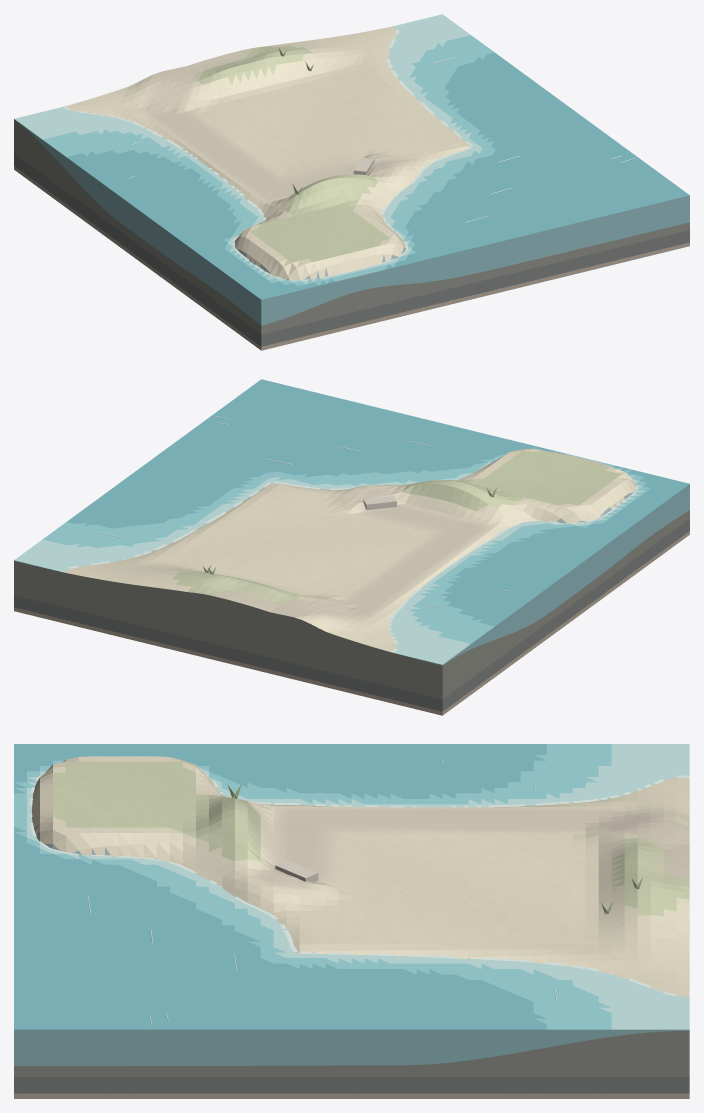
The picture shows the model from 3 angles, top to bottom: view 1: azimuth 30°, elevation 25°; view 2: azimuth 150°, elevation 25°; view 3: azimuth 270°, elevation 25°; orthographic projection. The views are drawn at different scales.
Parts seen in each view (by area): view 1: proc_water, proc_ground, proc_skirt, proc_water_side, proc_foam; view 2: proc_water, proc_ground, proc_skirt, proc_water_side, proc_foam; view 3: proc_water, proc_ground, proc_skirt, proc_water_side, proc_foam, proc_steps.
Boxes of the visible parts, <box> form: proc_water: <box>14,14,689,299</box>; proc_ground: <box>66,26,471,280</box>; proc_skirt: <box>14,120,689,350</box>; proc_water_side: <box>14,119,689,325</box>; proc_foam: <box>63,25,472,280</box>; proc_water: <box>14,379,689,664</box>; proc_ground: <box>64,448,636,652</box>; proc_skirt: <box>14,510,689,715</box>; proc_water_side: <box>14,484,689,665</box>; proc_foam: <box>63,479,637,652</box>; proc_water: <box>14,744,689,1029</box>; proc_ground: <box>32,756,689,996</box>; proc_skirt: <box>14,1030,689,1098</box>; proc_water_side: <box>14,1029,689,1066</box>; proc_foam: <box>29,772,689,996</box>; proc_steps: <box>275,860,318,881</box>.
Bounding box in the file's own units: 8 × 1.4 × 8.01.
